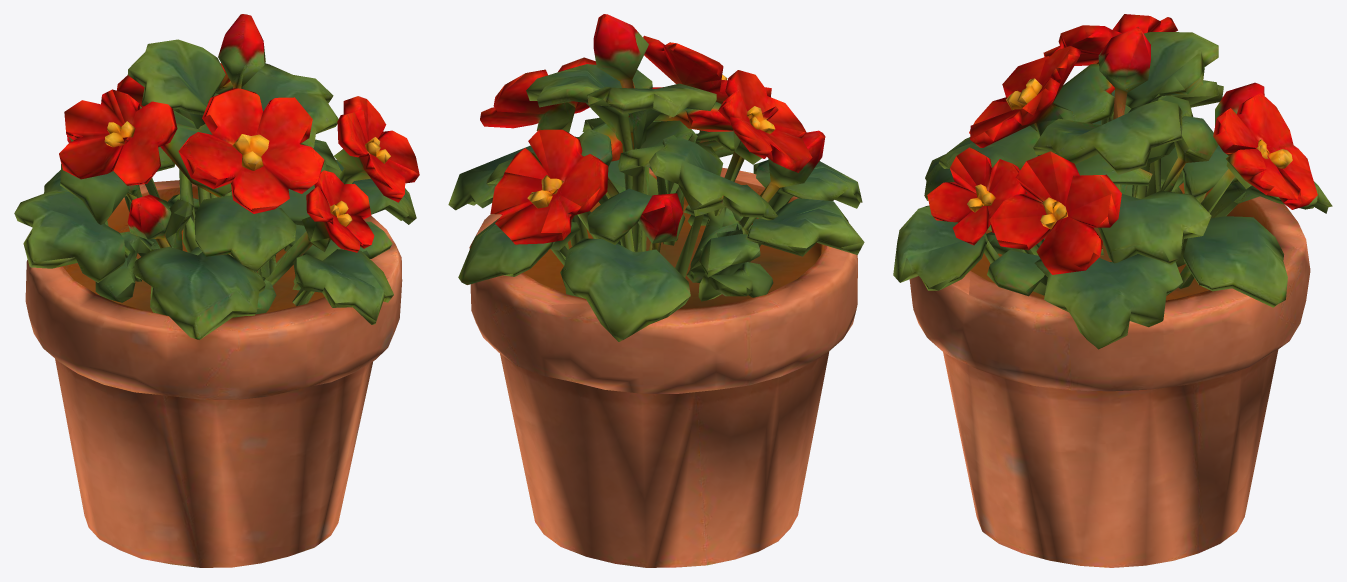
The model's file is flower_pot.glb.
3 views of the same model, side by side, from view 1: azimuth 30°, elevation 25°; view 2: azimuth 150°, elevation 25°; view 3: azimuth 270°, elevation 25° (orthographic). The views are drawn at different scales.
Visible parts, largest first — view 1: flower_pot; view 2: flower_pot; view 3: flower_pot.
Part boxes in pixels (<box>): flower_pot: <box>14,14,419,567</box>; flower_pot: <box>448,14,864,567</box>; flower_pot: <box>893,14,1332,567</box>.
Size of the model in its own units: 0.3783 by 0.45 by 0.355.
1 material, 1 textured.
